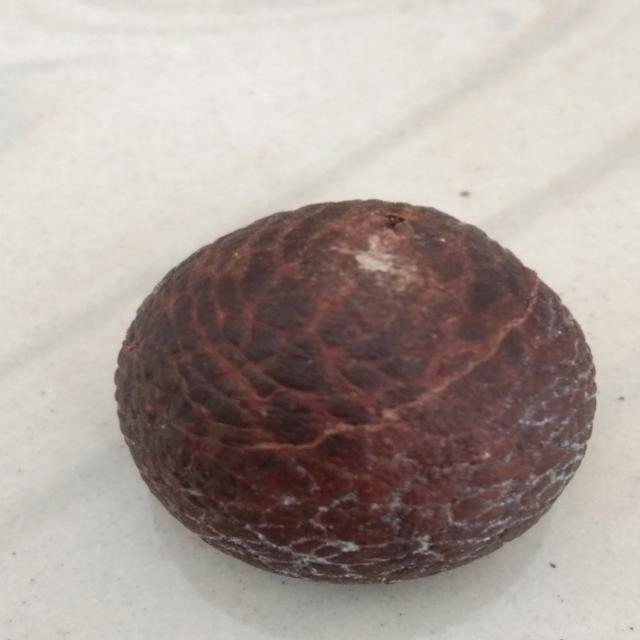karigot: (83, 198, 600, 591)
